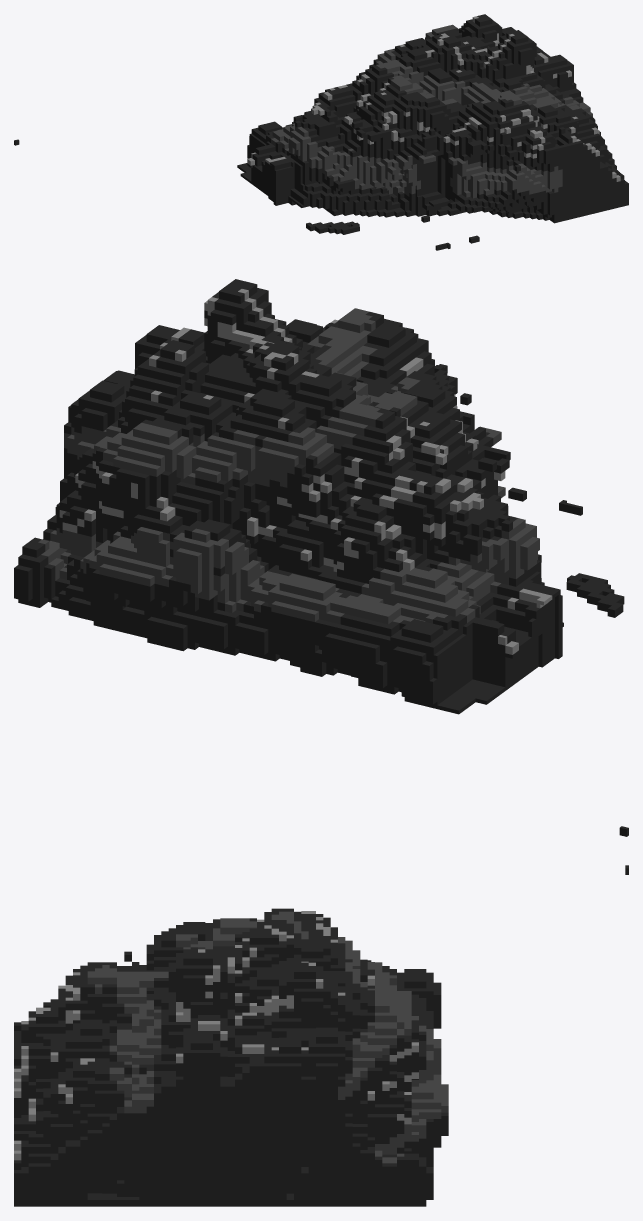
The model's file is Lava_stuff-14.obj.
3 views of the same model, one above another, from view 1: azimuth 30°, elevation 25°; view 2: azimuth 150°, elevation 25°; view 3: azimuth 270°, elevation 25° (orthographic). The views are drawn at different scales.
Size of the model in its own units: 20 by 6.4 by 16.7.
1 material, 1 textured.
